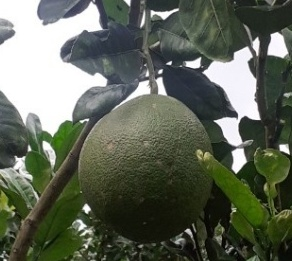Buoi: (76, 92, 217, 244)
